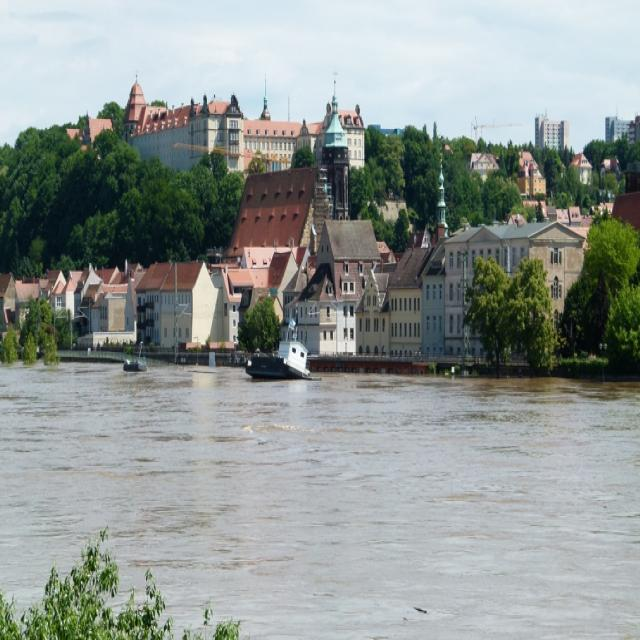flood: (0, 363, 640, 640)
house: (440, 224, 584, 326), (230, 162, 316, 326), (300, 213, 382, 364), (124, 74, 226, 168), (140, 258, 227, 357), (389, 248, 426, 359), (86, 272, 136, 351), (243, 116, 303, 174), (47, 265, 85, 351), (612, 191, 640, 239)
